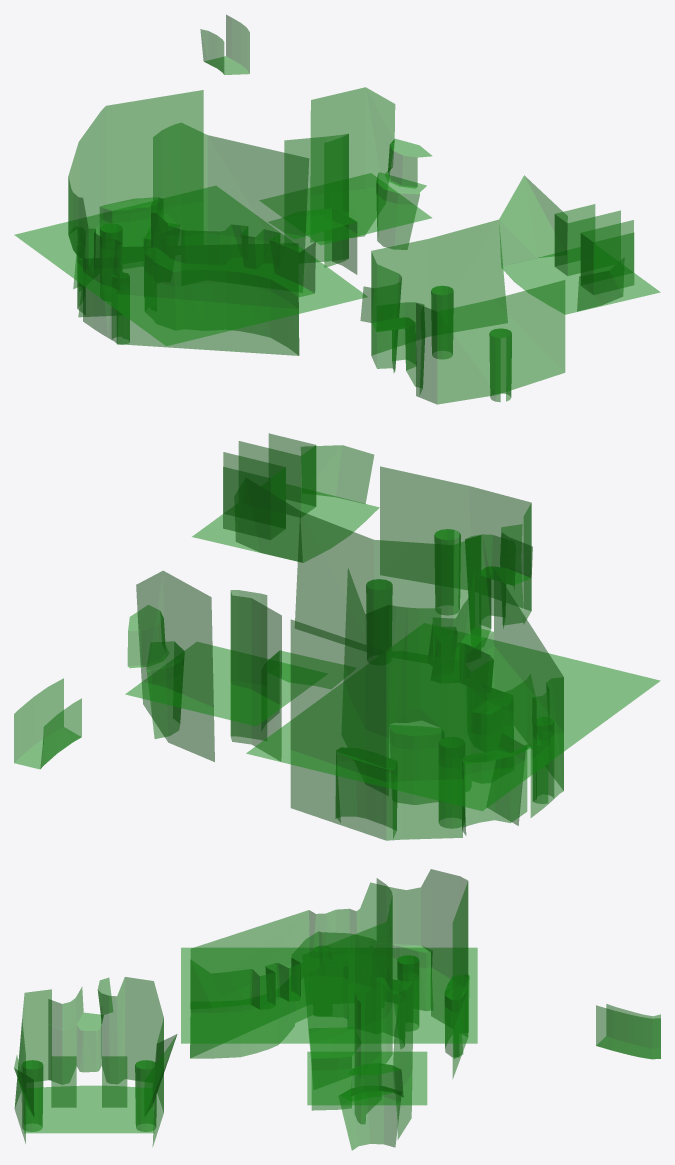
The model's file is stg151_C_cam.obj.
3 views of the same model, one above another, from view 1: azimuth 30°, elevation 25°; view 2: azimuth 150°, elevation 25°; view 3: azimuth 270°, elevation 25° (orthographic). The views are drawn at different scales.
Bounding box in the file's own units: 148 × 58.87 × 205.
